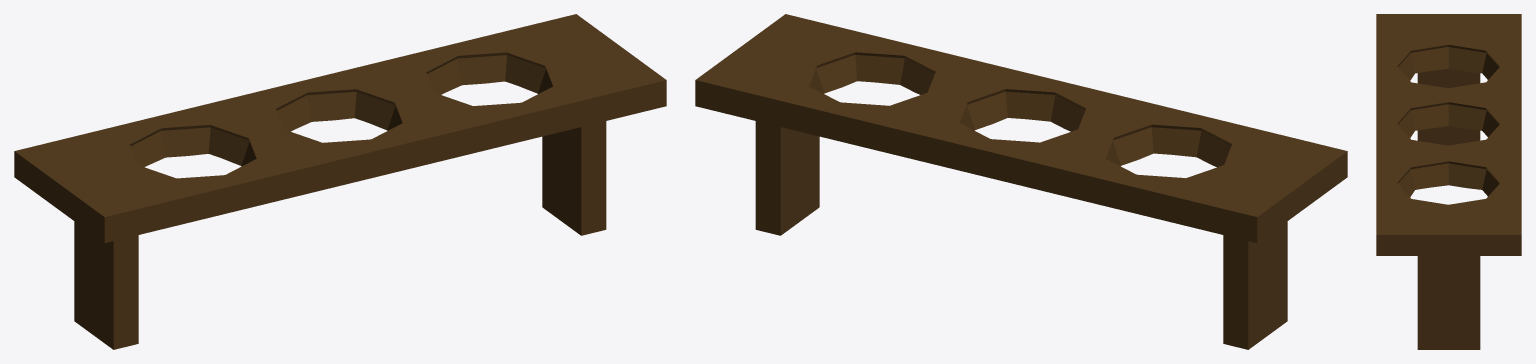
The model's file is Potion Holder.glb.
3 renders of one model, left to right at view 1: azimuth 30°, elevation 25°; view 2: azimuth 150°, elevation 25°; view 3: azimuth 270°, elevation 25°, orthographic. The views are drawn at different scales.
Visible parts, largest first — view 1: potion_holder; view 2: potion_holder; view 3: potion_holder.
Boxes of the visible parts, box(x1,y1,x2,y2) form: potion_holder: box(14, 14, 666, 349); potion_holder: box(695, 14, 1347, 349); potion_holder: box(1376, 14, 1521, 349).
Bounding box in the file's own units: 0.9783 × 0.2661 × 0.2722.
